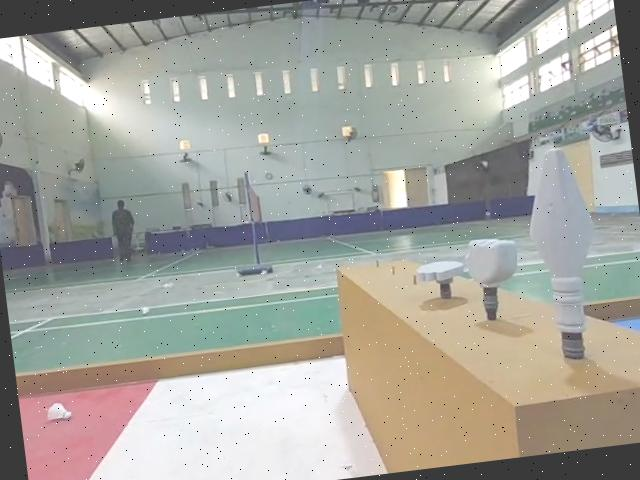Fist: (465, 227, 529, 321)
Hand: (413, 254, 462, 299)
Sph: (517, 143, 614, 372)
